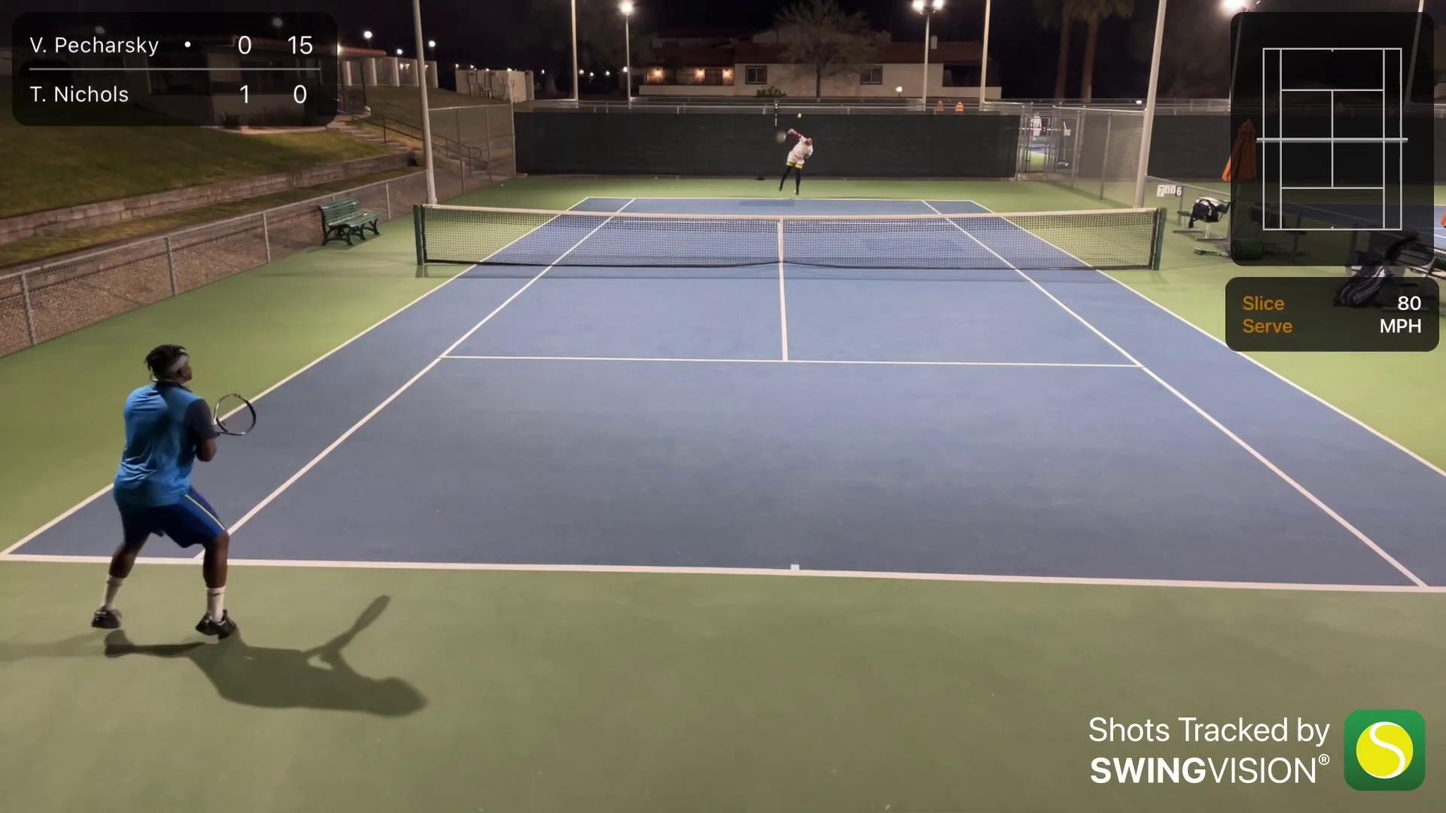ball: (795, 113, 802, 120), (496, 183, 505, 186)
